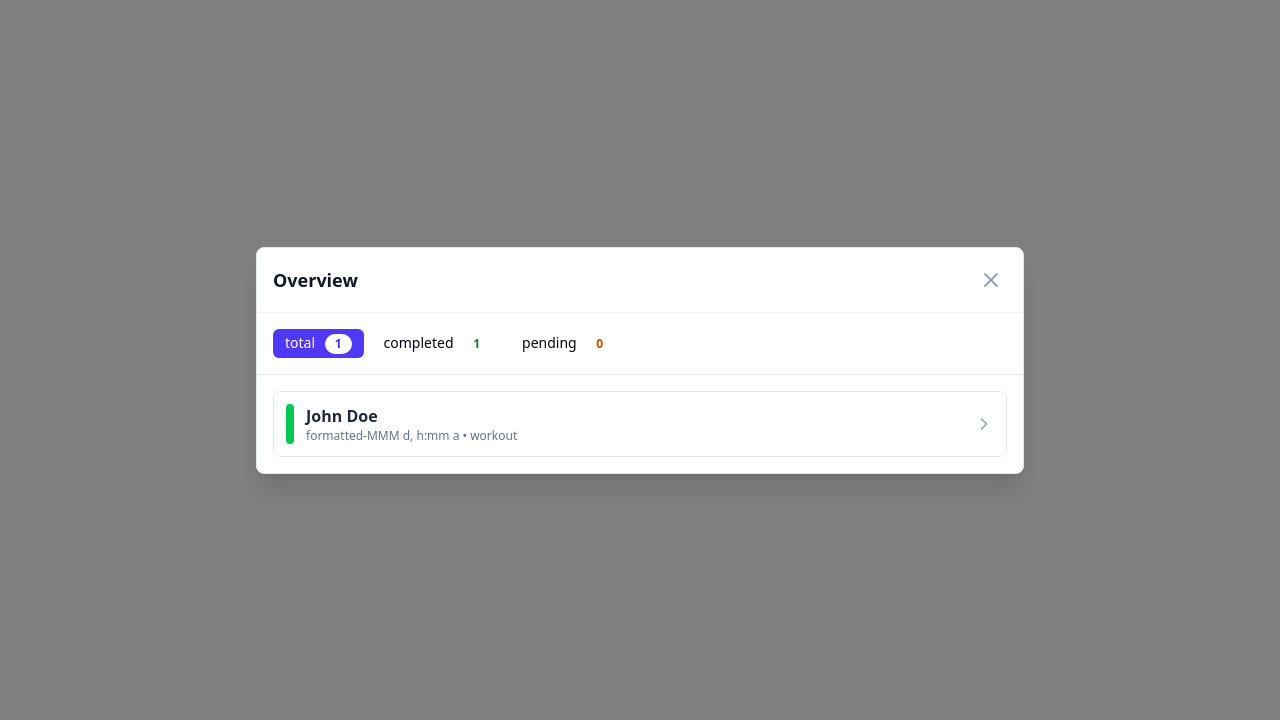
Test: OverviewModal › shows empty state when no sessions match filter
This screenshot has width=1280, height=720.
Click the button "pending 0" at point(568, 343), box [510,328,625,358]
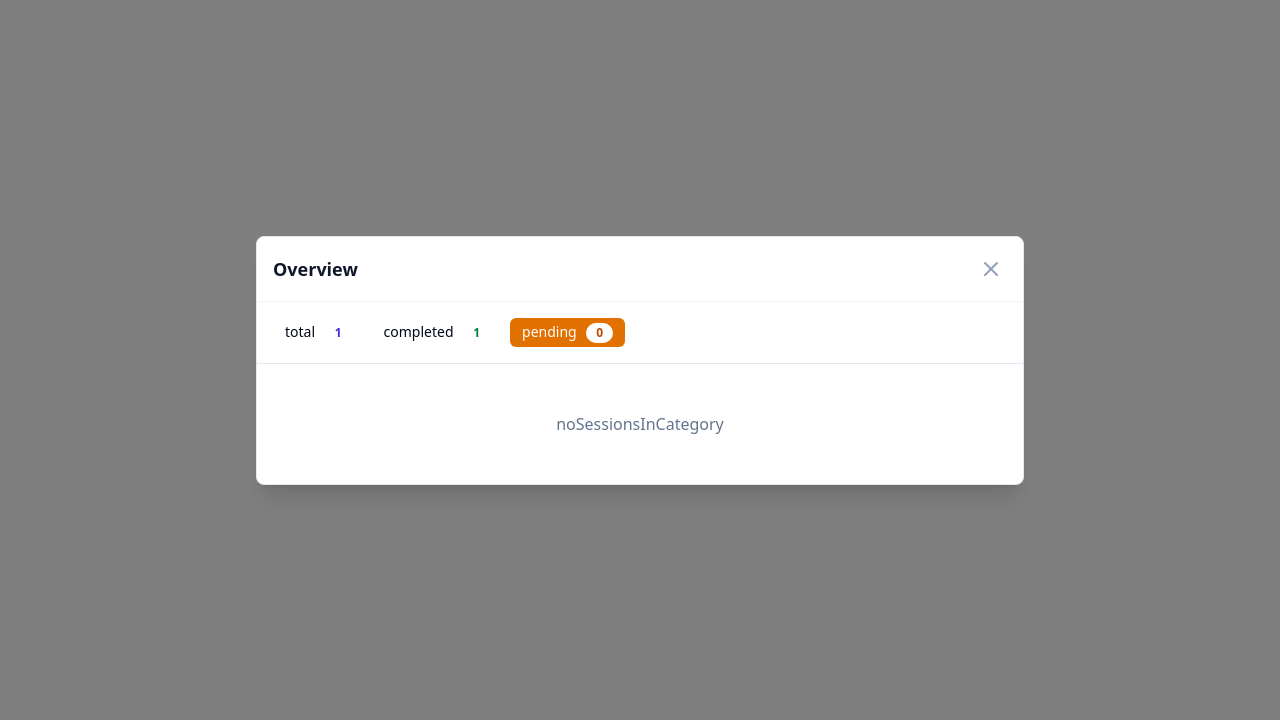
Expected: the text "noSessionsInCategory" is shown, [556,412,724,434]
